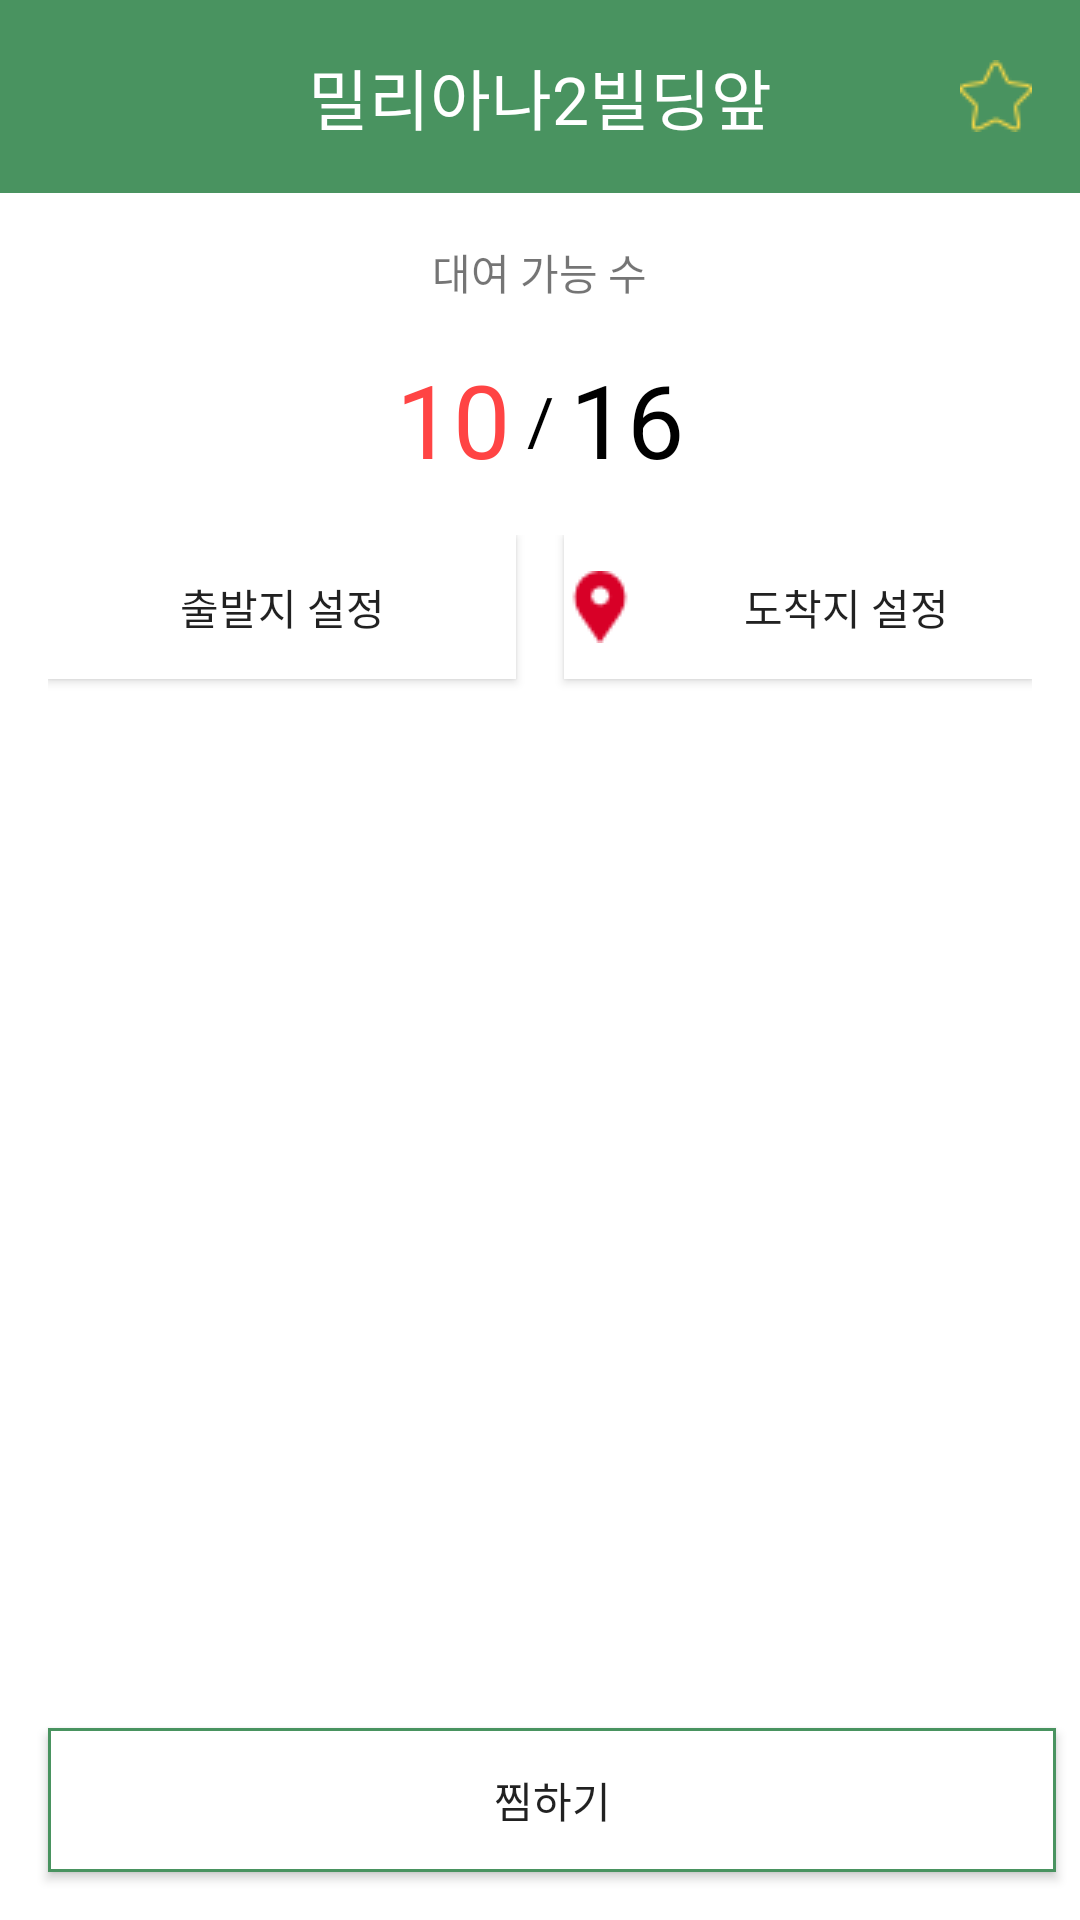

Named icons in this screenshot (1080w x 1920h) and their centers, (x,y):
favor star: (996,96)
